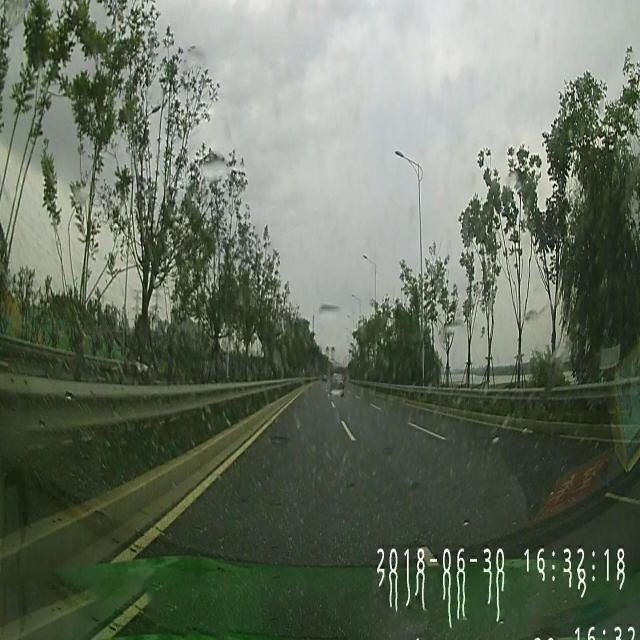car: (331, 371, 344, 396), (320, 375, 327, 384)
